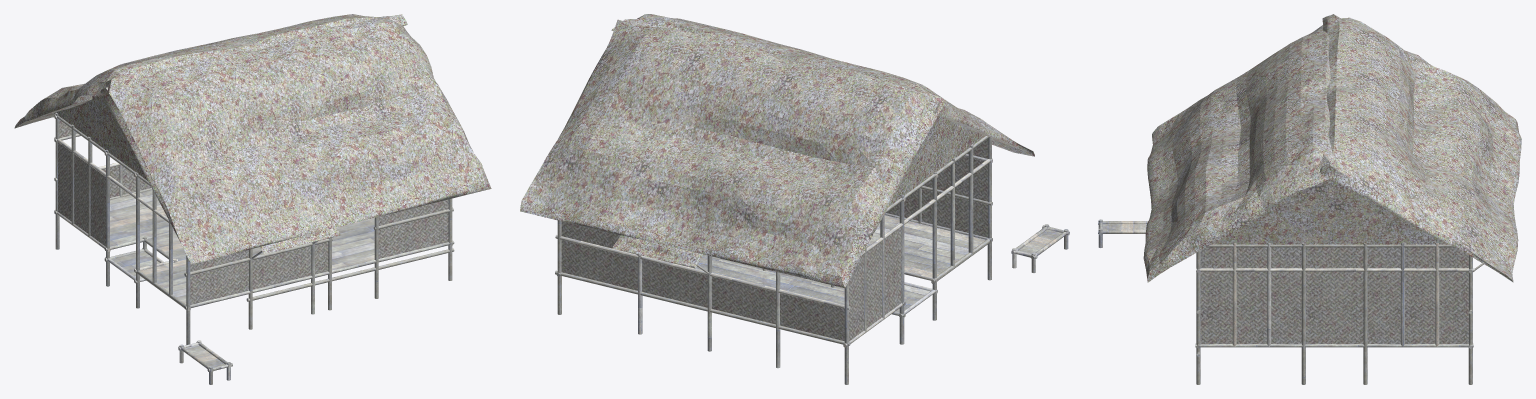
File: bab.obj
3 views of the same model, side by side, from view 1: azimuth 30°, elevation 25°; view 2: azimuth 150°, elevation 25°; view 3: azimuth 270°, elevation 25° (orthographic). The views are drawn at different scales.
Parts seen in each view (by area): view 1: Meshpart3, Meshpart2, Part133, Part128, Part3, Part2, Part82, Part22, Part17, Part1, Wedge3, Union2 (+16 smaller); view 2: Meshpart2, Part72, Part71, Meshpart3, Part3, Part2, Part82, Union4, Wedge4, Part129, Part128, Part1 (+12 smaller); view 3: Meshpart2, Meshpart3, Part52, Part47, Wedge1, Wedge2, Union1, Part54, Part12, Part11, Union3, Part14 (+3 smaller).
Boxes of the visible parts, x1,y1,x2,y2 form: Meshpart3: (100,15,491,264); Meshpart2: (14,14,407,128); Part133: (190,242,328,304); Part128: (190,242,328,304); Part3: (58,142,105,246); Part2: (58,142,105,246); Part82: (140,218,374,303); Part22: (378,212,448,258); Part17: (378,212,448,258); Part1: (110,190,174,246); Wedge3: (54,96,120,160); Union2: (55,112,109,286); Meshpart2: (520,19,945,288); Part72: (561,240,844,340); Part71: (561,240,844,340); Meshpart3: (611,14,1034,156); Part3: (849,227,901,341); Part2: (849,228,901,340); Part82: (867,215,985,276); Union4: (932,137,991,320); Wedge4: (916,116,985,186); Part129: (886,189,988,237); Part128: (886,189,987,237); Part1: (695,255,844,304); Meshpart2: (1319,14,1521,282); Meshpart3: (1143,25,1339,282); Part52: (1200,247,1468,344); Part47: (1200,247,1468,343); Wedge1: (1327,178,1449,244); Wedge2: (1211,180,1329,244); Union1: (1232,243,1439,346); Part54: (1195,343,1473,347); Part12: (1196,268,1474,271); Part11: (1206,244,1454,247); Union3: (1098,219,1148,247); Part14: (1363,243,1367,384).
Size of the model in its own units: 29.24 by 20.48 by 33.37.
5 materials, 5 textured.
